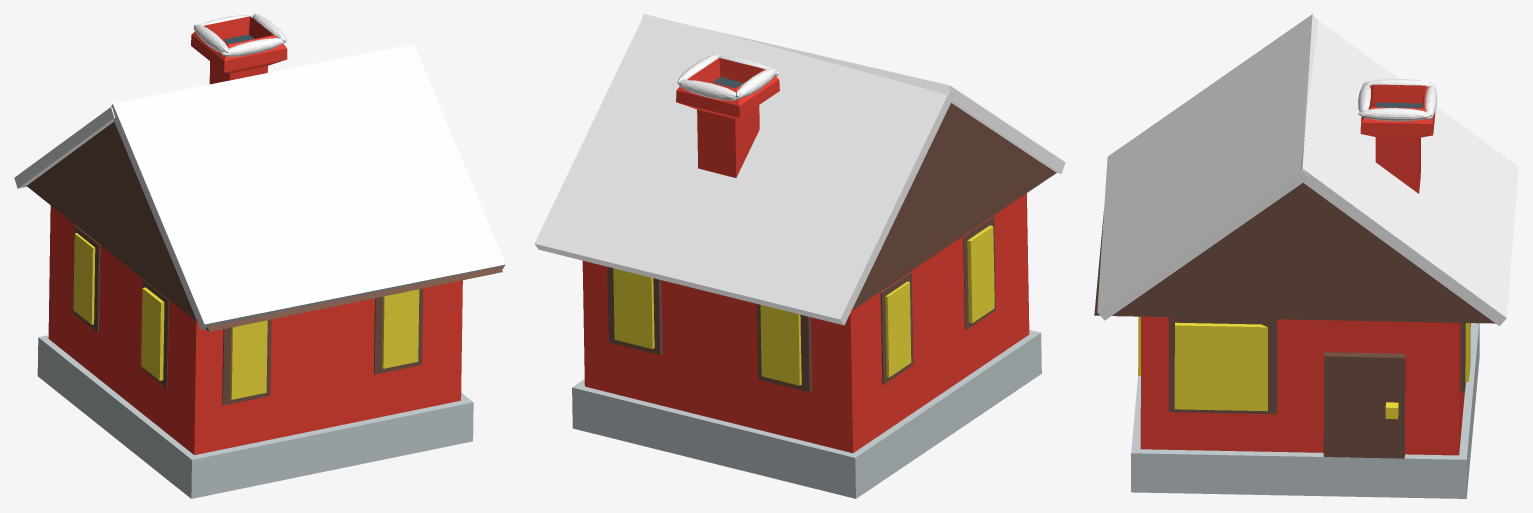
The model's file is housesnow_lev5.glb.
The picture shows the model from 3 angles, left to right: view 1: azimuth 30°, elevation 25°; view 2: azimuth 150°, elevation 25°; view 3: azimuth 270°, elevation 25°; orthographic projection. The views are drawn at different scales.
Parts seen in each view (by area): view 1: housesnow_lev5; view 2: housesnow_lev5; view 3: housesnow_lev5.
Part boxes in pixels (x1,y1,x2,y2): housesnow_lev5: [14, 14, 505, 498]; housesnow_lev5: [534, 14, 1065, 498]; housesnow_lev5: [1094, 14, 1518, 498].
Bounding box in the file's own units: 15.27 × 16.29 × 17.92.
